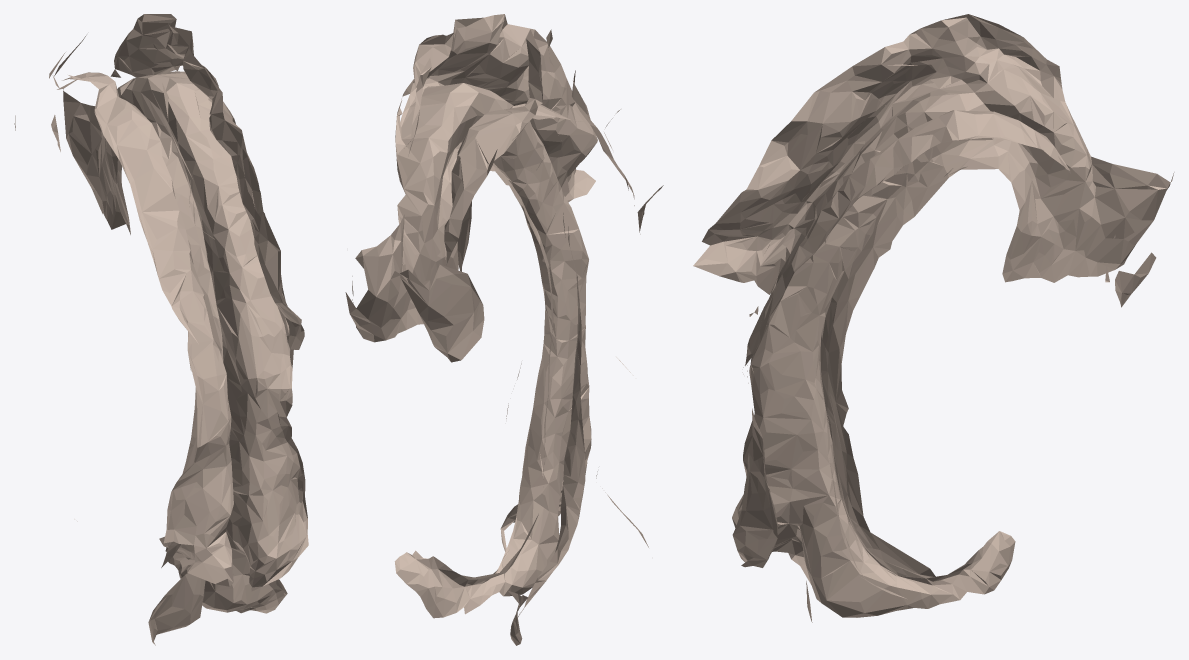
File: cingulate_gyrus.glb
3 views of the same model, side by side, from view 1: azimuth 30°, elevation 25°; view 2: azimuth 150°, elevation 25°; view 3: azimuth 270°, elevation 25° (orthographic). The views are drawn at different scales.
Visible parts, largest first — view 1: world; view 2: world; view 3: world.
Part boxes in pixels (<box>): world: <box>14,14,308,645</box>; world: <box>345,14,663,645</box>; world: <box>693,14,1174,622</box>.
Size of the model in its own units: 0.3449 by 1.28 by 0.9314.
